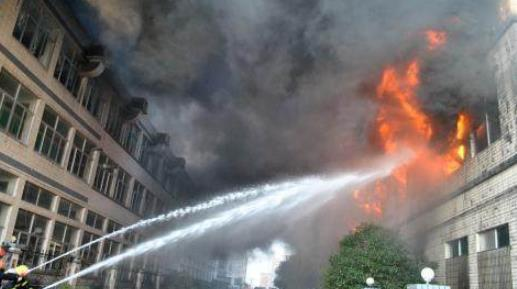fire: (350, 10, 471, 191)
